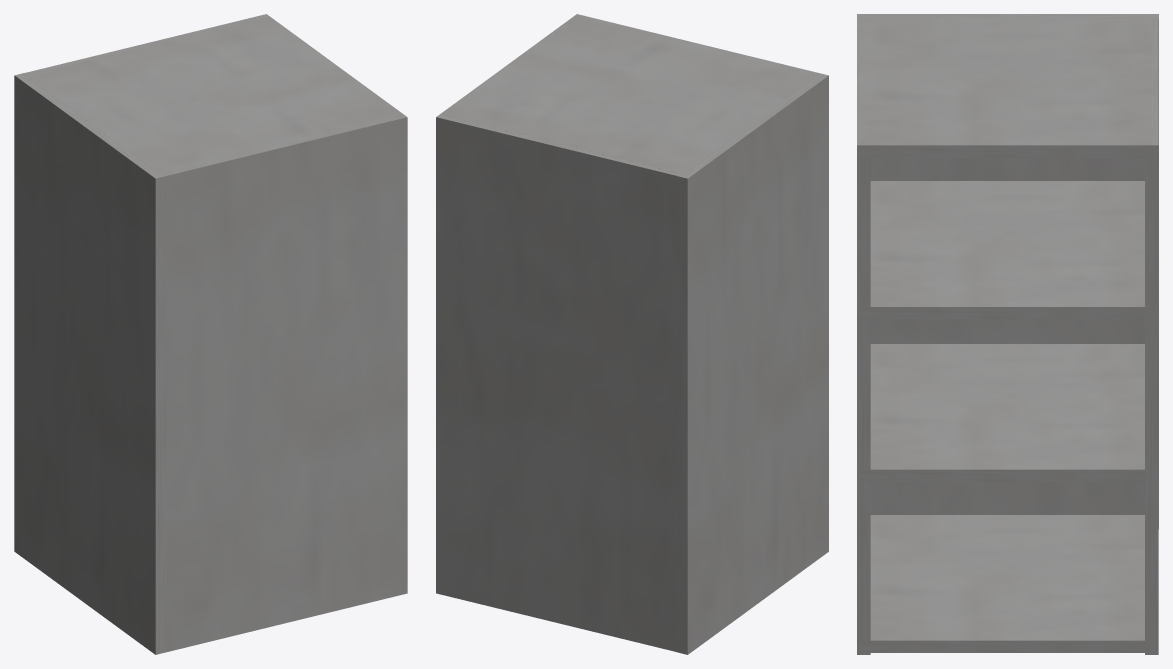
The model's file is Shelf.fbx.
The picture shows the model from 3 angles, left to right: view 1: azimuth 30°, elevation 25°; view 2: azimuth 150°, elevation 25°; view 3: azimuth 270°, elevation 25°; orthographic projection. The views are drawn at different scales.
Parts seen in each view (by area): view 1: Cube.001, Cube, Cube.006, Cube.002; view 2: Cube.002, Cube, Cube.006; view 3: Cube.006, Cube.005, Cube.003, Cube.004, Cube, Cube.002, Cube.001.
Part boxes in pixels (x1=…): Cube.001: x1=166, y1=116, x2=407, y2=651; Cube: x1=14, y1=73, x2=166, y2=654; Cube.006: x1=26, y1=16, x2=406, y2=175; Cube.002: x1=22, y1=14, x2=269, y2=75; Cube.002: x1=436, y1=115, x2=683, y2=651; Cube: x1=676, y1=73, x2=828, y2=654; Cube.006: x1=439, y1=14, x2=820, y2=174; Cube.006: x1=859, y1=18, x2=1151, y2=157; Cube.005: x1=859, y1=181, x2=1144, y2=319; Cube.003: x1=859, y1=515, x2=1144, y2=652; Cube.004: x1=859, y1=344, x2=1144, y2=481; Cube: x1=857, y1=14, x2=1158, y2=528; Cube.002: x1=1145, y1=18, x2=1158, y2=654; Cube.001: x1=857, y1=19, x2=870, y2=654.
Size of the model in its own units: 427 by 772 by 414.
7 materials, 7 textured.
